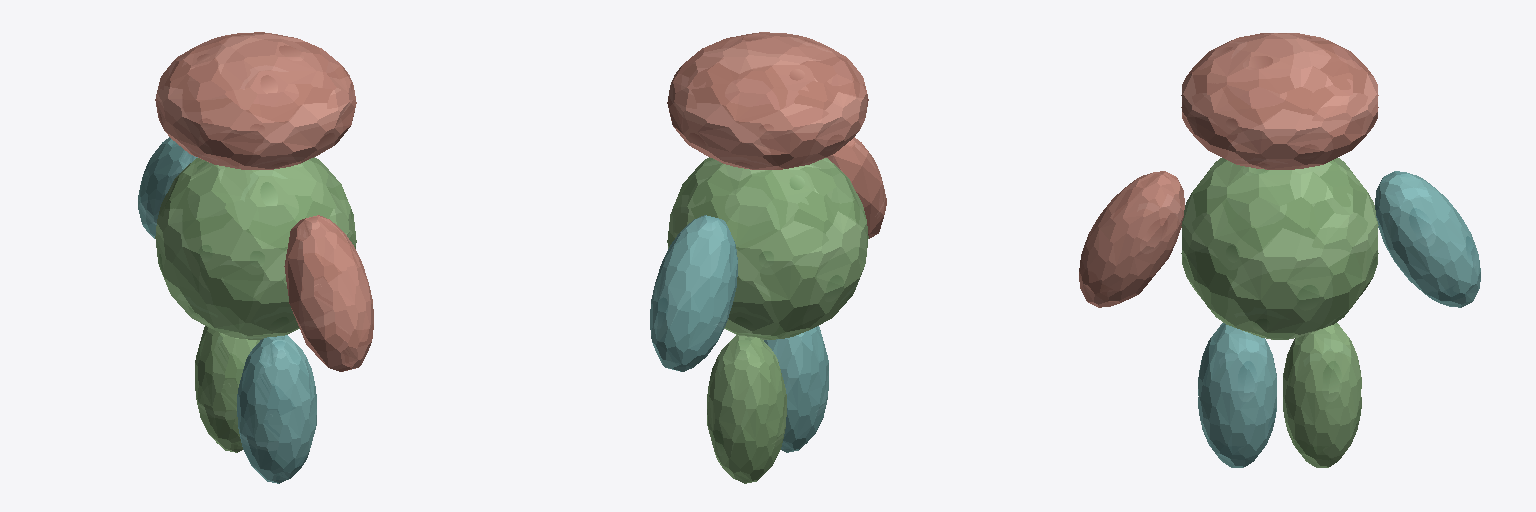
3 renders of one model, left to right at view 1: azimuth 30°, elevation 25°; view 2: azimuth 150°, elevation 25°; view 3: azimuth 270°, elevation 25°, orthographic.
Parts seen in each view (by area): view 1: Icosphere, Icosphere.001, Icosphere.004, Icosphere.002, Icosphere.005, Icosphere.003; view 2: Icosphere, Icosphere.001, Icosphere.003, Icosphere.005, Icosphere.002, Icosphere.004; view 3: Icosphere, Icosphere.001, Icosphere.004, Icosphere.003, Icosphere.002, Icosphere.005.
Boxes of the visible parts, box(x1,y1,x2,y2) form: Icosphere: box(155, 157, 356, 339); Icosphere.001: box(155, 32, 356, 169); Icosphere.004: box(284, 215, 373, 371); Icosphere.002: box(237, 335, 316, 483); Icosphere.005: box(195, 326, 259, 452); Icosphere.003: box(138, 137, 197, 238); Icosphere: box(667, 157, 868, 339); Icosphere.001: box(667, 32, 868, 169); Icosphere.003: box(650, 215, 737, 371); Icosphere.005: box(707, 335, 786, 483); Icosphere.002: box(764, 326, 828, 452); Icosphere.004: box(826, 137, 886, 238); Icosphere: box(1181, 158, 1378, 339); Icosphere.001: box(1181, 33, 1378, 169); Icosphere.004: box(1079, 171, 1184, 307); Icosphere.003: box(1375, 171, 1480, 307); Icosphere.002: box(1198, 323, 1276, 467); Icosphere.005: box(1283, 323, 1361, 467).
Size of the model in its own units: 2.38 by 5.43 by 4.76.
3 materials, 3 textured.